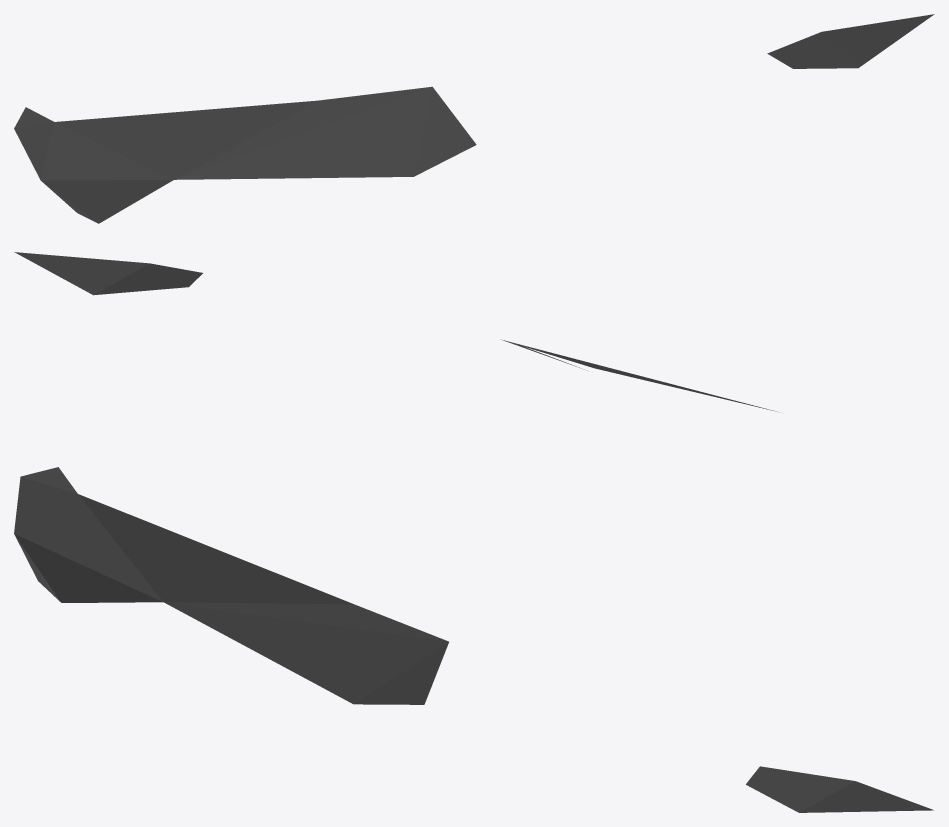
The model's file is A_caudal_gluteal_R_A_caudal_gluteal_R.glb.
3 renders of one model, top to bottom at view 1: azimuth 30°, elevation 25°; view 2: azimuth 150°, elevation 25°; view 3: azimuth 330°, elevation 25°, orthographic.
Visible parts, largest first — view 1: A_caudal_gluteal_R_A_caudal_gluteal_R; view 2: A_caudal_gluteal_R_A_caudal_gluteal_R; view 3: A_caudal_gluteal_R_A_caudal_gluteal_R.
Boxes of the visible parts, x1,y1,x2,y2 form: A_caudal_gluteal_R_A_caudal_gluteal_R: (14, 14, 934, 223); A_caudal_gluteal_R_A_caudal_gluteal_R: (14, 252, 777, 411); A_caudal_gluteal_R_A_caudal_gluteal_R: (14, 467, 933, 812).
Bounding box in the file's own units: 0.0129 × 0.00159 × 0.0012.
1 material, 1 textured.
